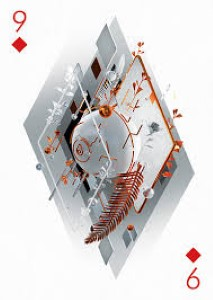NineOfDiamonds: (6, 8, 207, 294)
